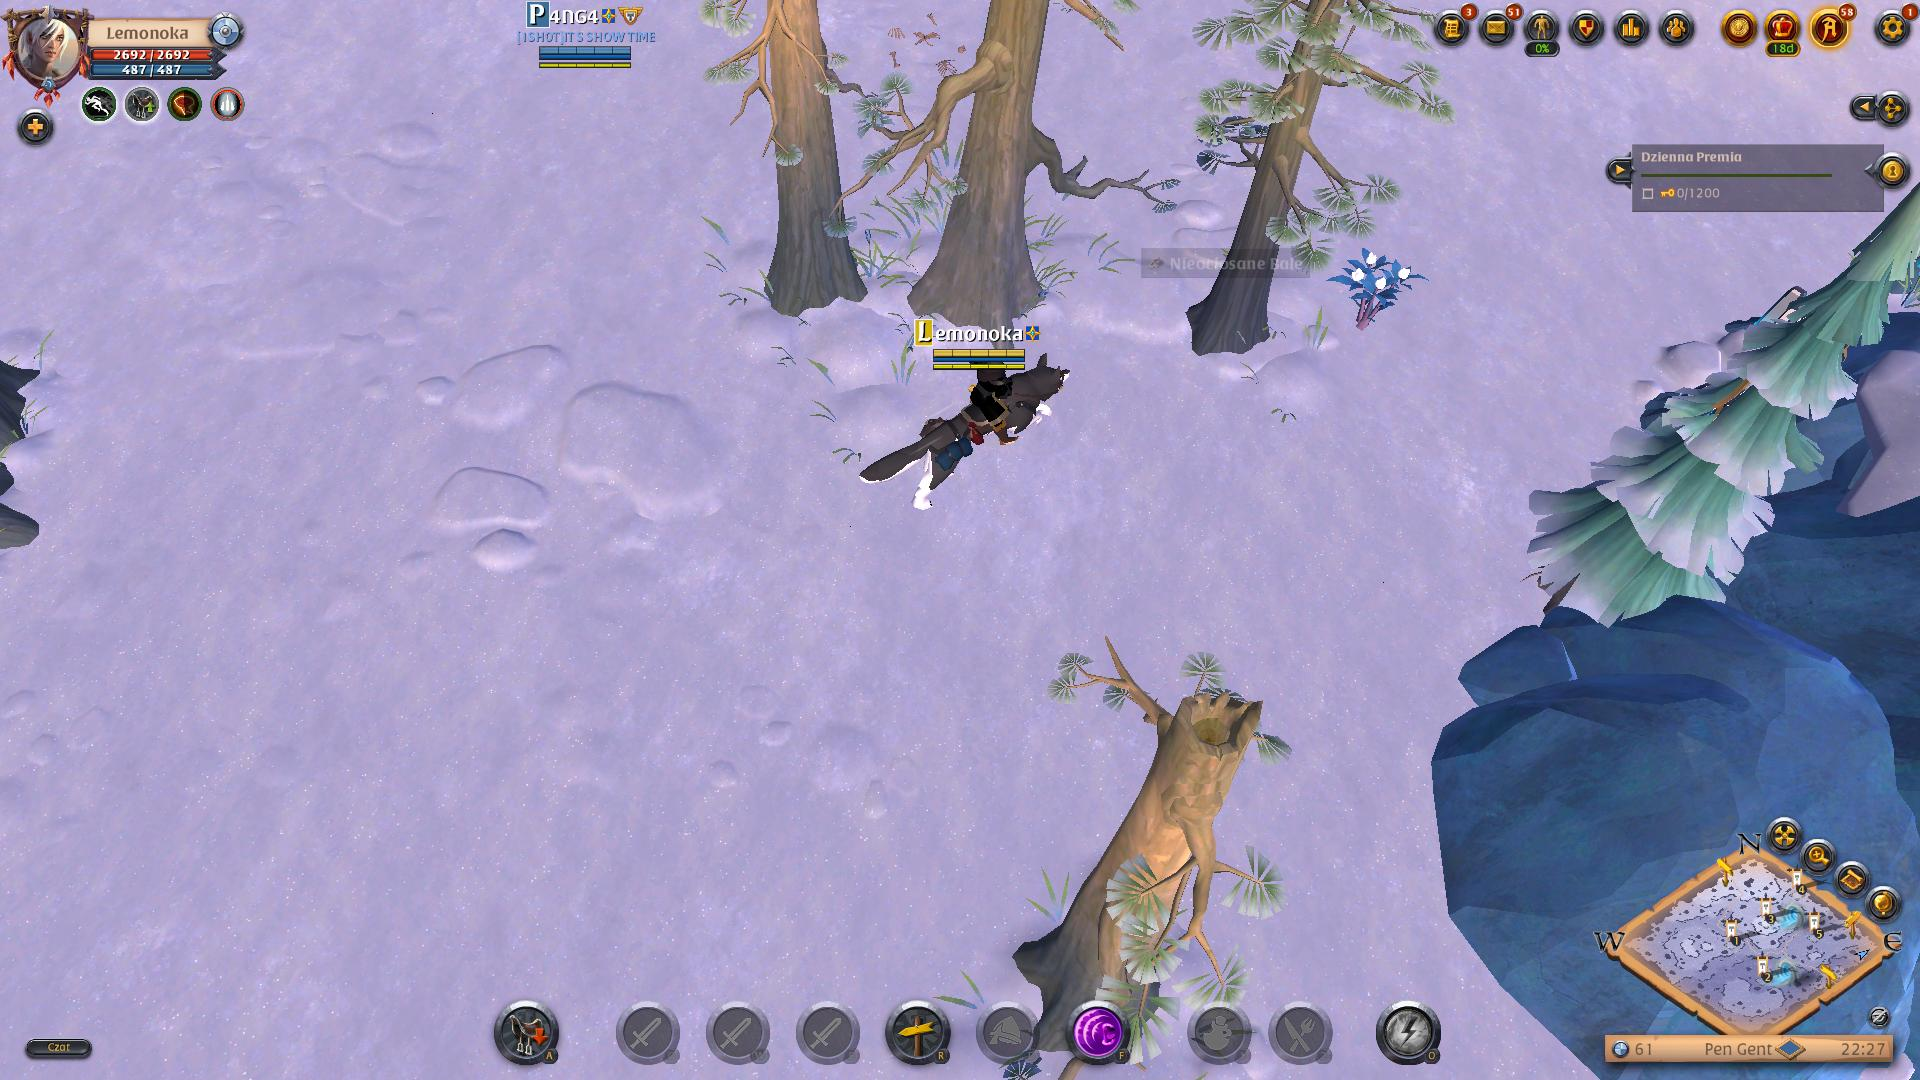fiber tier 4: (1328, 244, 1432, 334)
